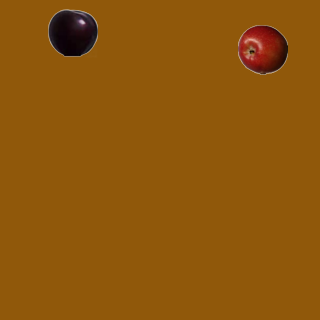Apple Braeburn: (237, 24, 287, 74)
Cherry Wax Black: (47, 7, 97, 57)
